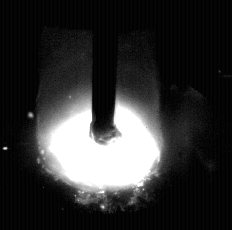arame: (93, 0, 116, 143)
poca: (36, 0, 163, 230)
